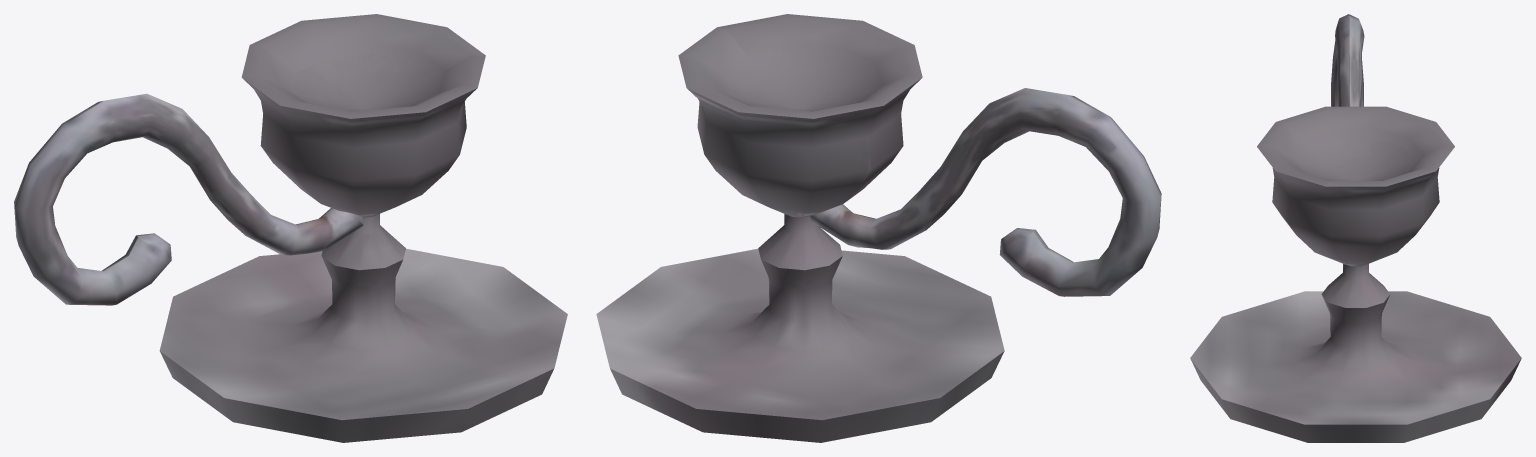
Rendered from quaternius-fantasy-props-candlestick.glb.
3 renders of one model, left to right at view 1: azimuth 30°, elevation 25°; view 2: azimuth 150°, elevation 25°; view 3: azimuth 270°, elevation 25°, orthographic. The views are drawn at different scales.
Visible parts, largest first — view 1: CandleStick; view 2: CandleStick; view 3: CandleStick.
Part boxes in pixels (x1,y1,x2,y2): CandleStick: (14,14,567,442); CandleStick: (596,14,1161,442); CandleStick: (1190,14,1521,442).
Bounding box in the file's own units: 0.42 × 0.2499 × 0.2887.
Materials: 1 (1 with a texture image).
